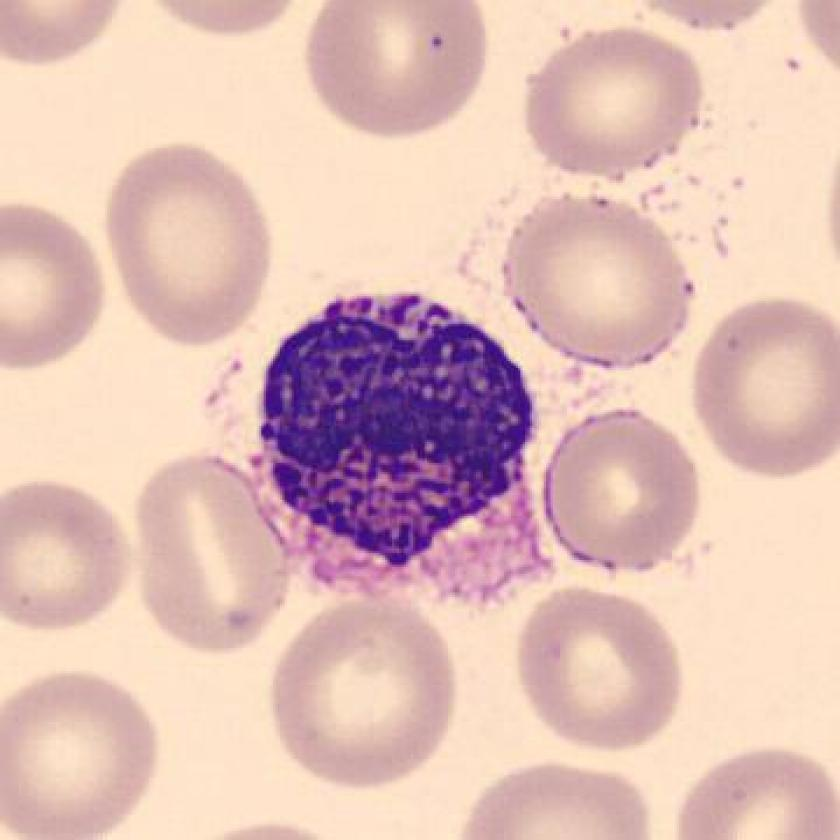basophil: (246, 286, 545, 580)
